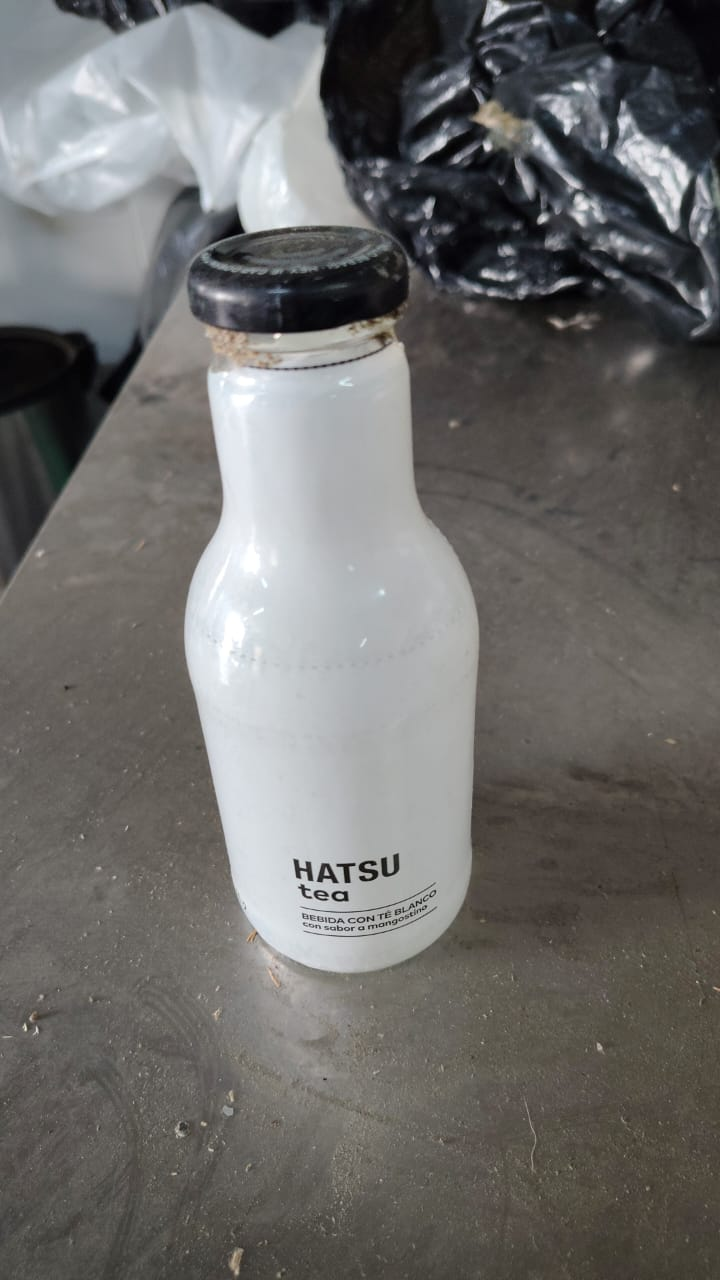Metal: (187, 227, 414, 323)
Vidrio: (180, 327, 486, 980)
